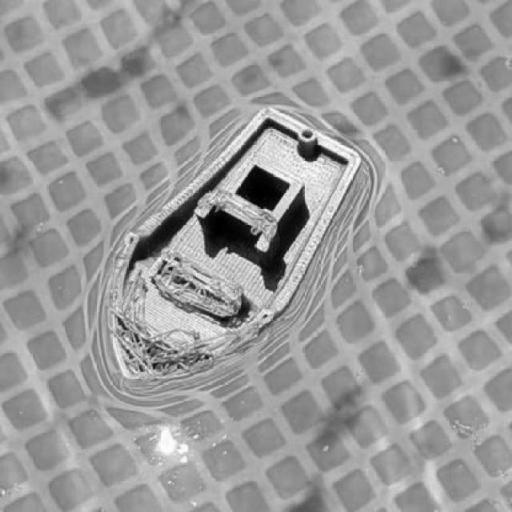spaghetti_and_stringing: (111, 255, 243, 380), (199, 188, 279, 240)
